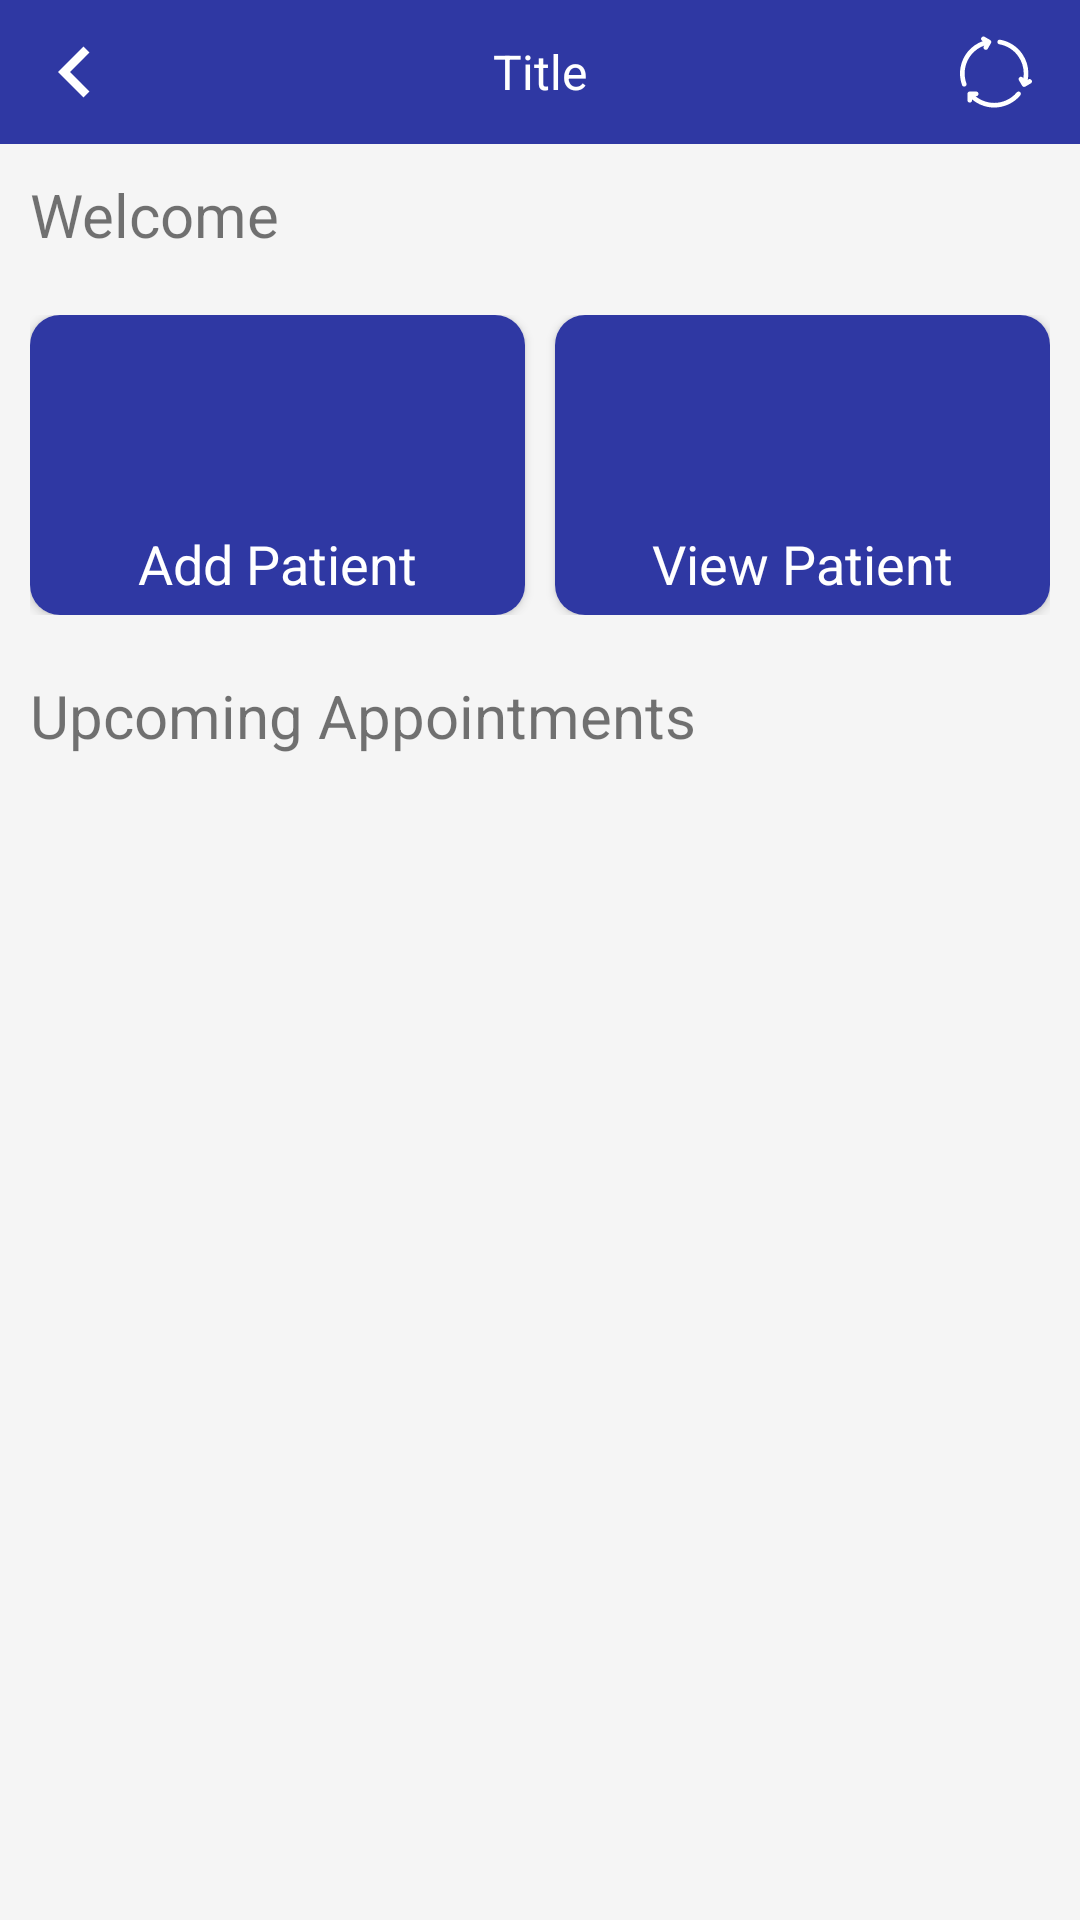

Locate icon controls on the screen. Image size 1080 x 1920, boxes as (x1, y1, x2, y2).
left: (58, 46, 90, 98)
